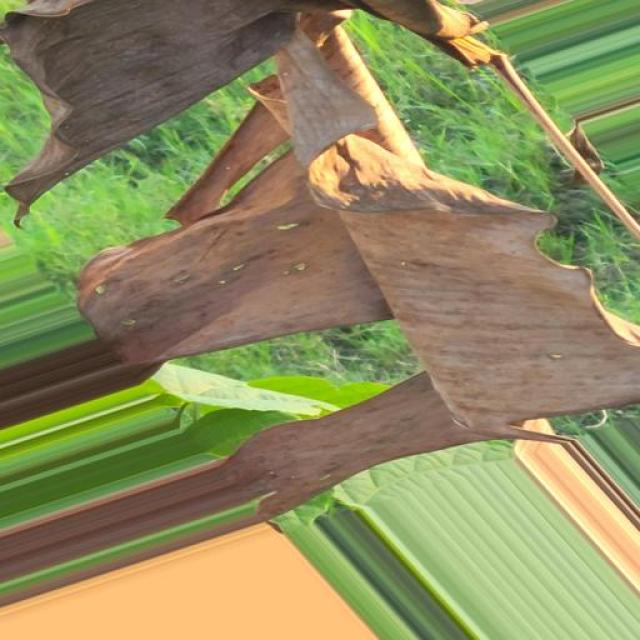Bract_mosaic_virus: (6, 0, 640, 525)
